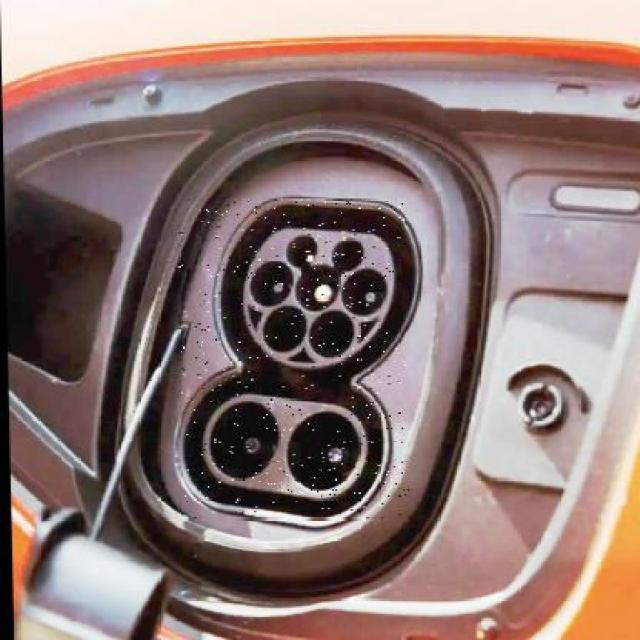CCS2: (159, 174, 442, 541)
